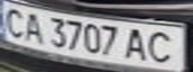0: (81, 20, 103, 55)
3: (42, 15, 69, 49)
7: (100, 23, 124, 57), (63, 18, 84, 52)
A: (121, 26, 151, 62), (18, 10, 48, 44)
C: (142, 28, 184, 65), (0, 4, 30, 38)
